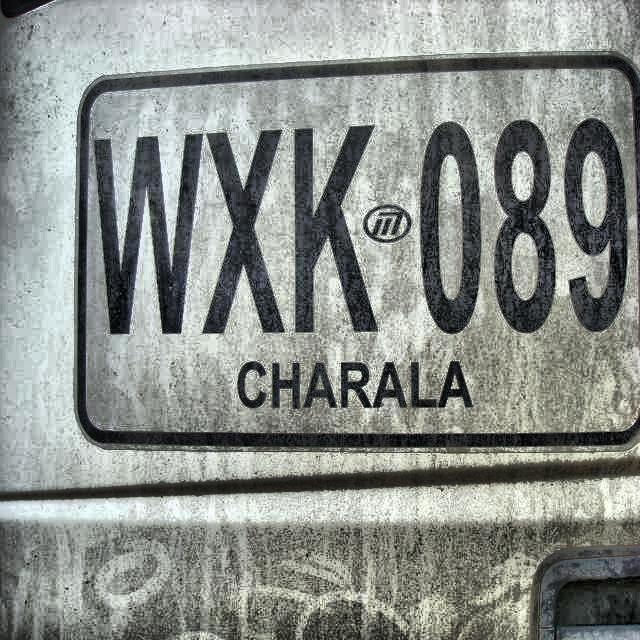plate: (75, 49, 639, 451)
